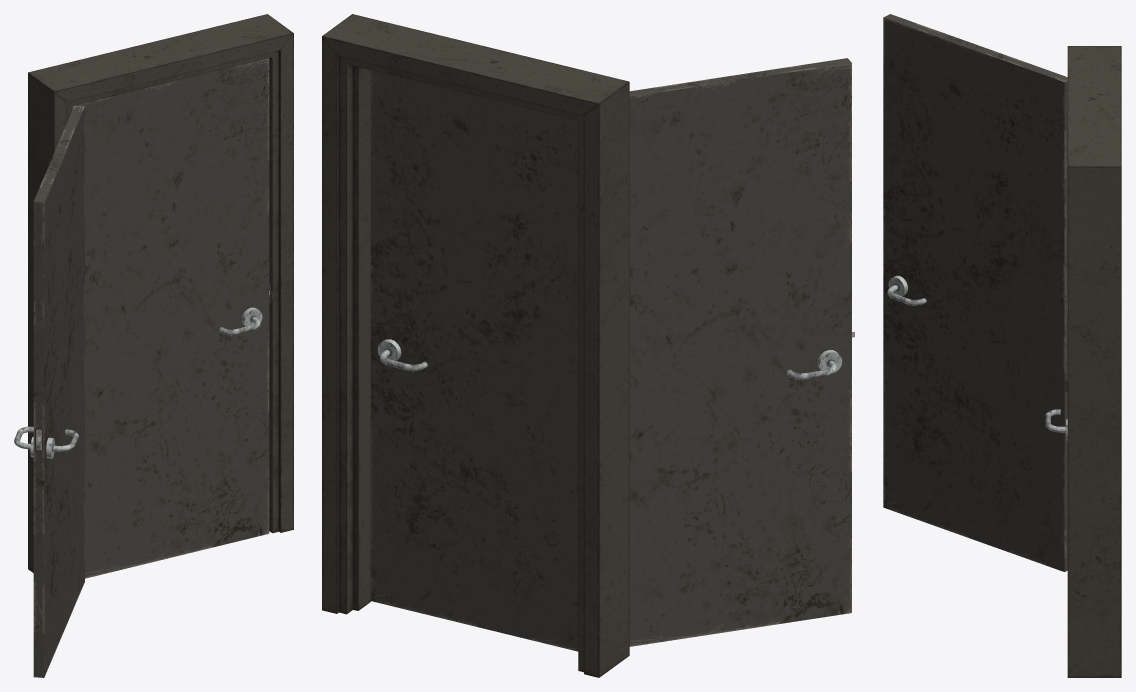
File: metal-door.glb
3 views of the same model, side by side, from view 1: azimuth 30°, elevation 25°; view 2: azimuth 150°, elevation 25°; view 3: azimuth 270°, elevation 25° (orthographic). The views are drawn at different scales.
Visible parts, largest first — view 1: metal_door_closed, metal_door_open; view 2: metal_door_open, metal_door_closed; view 3: metal_door_open.
Part boxes in pixels (x1=…): metal_door_closed: x1=72, y1=58, x2=269, y2=578; metal_door_open: x1=14, y1=14, x2=293, y2=677; metal_door_open: x1=322, y1=14, x2=854, y2=677; metal_door_closed: x1=371, y1=70, x2=578, y2=651; metal_door_open: x1=883, y1=14, x2=1121, y2=677.
Size of the model in its own units: 1.76 by 2.4 by 1.01.
Materials: 1 (1 with a texture image).
